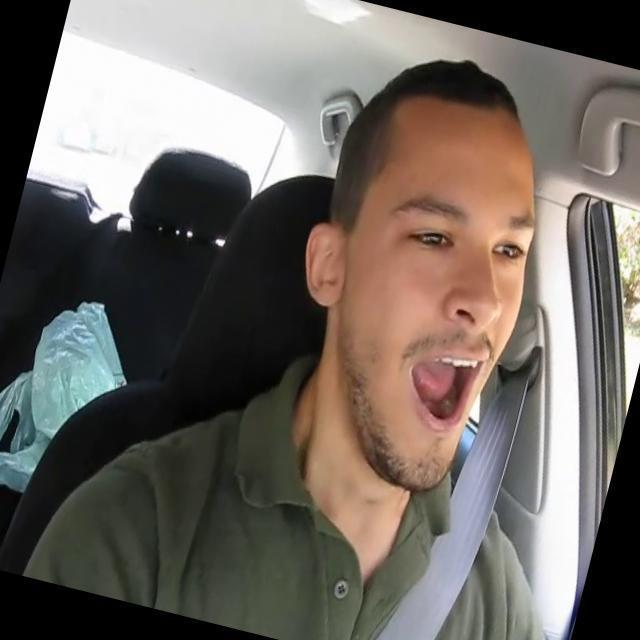open-mouth: (406, 351, 478, 432)
